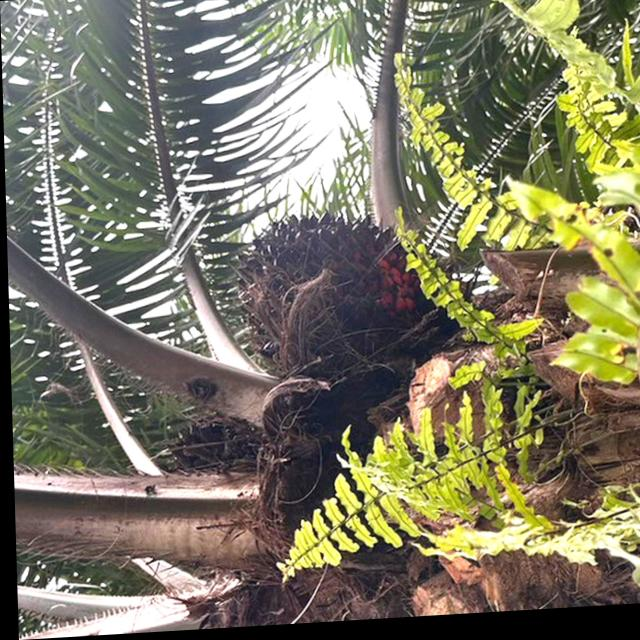ripe: (216, 211, 395, 380)
